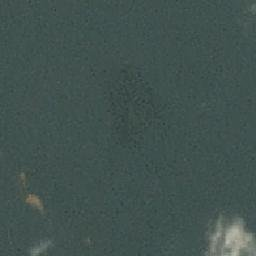cloud: (200, 216, 255, 256)
debris: (25, 190, 43, 216)
